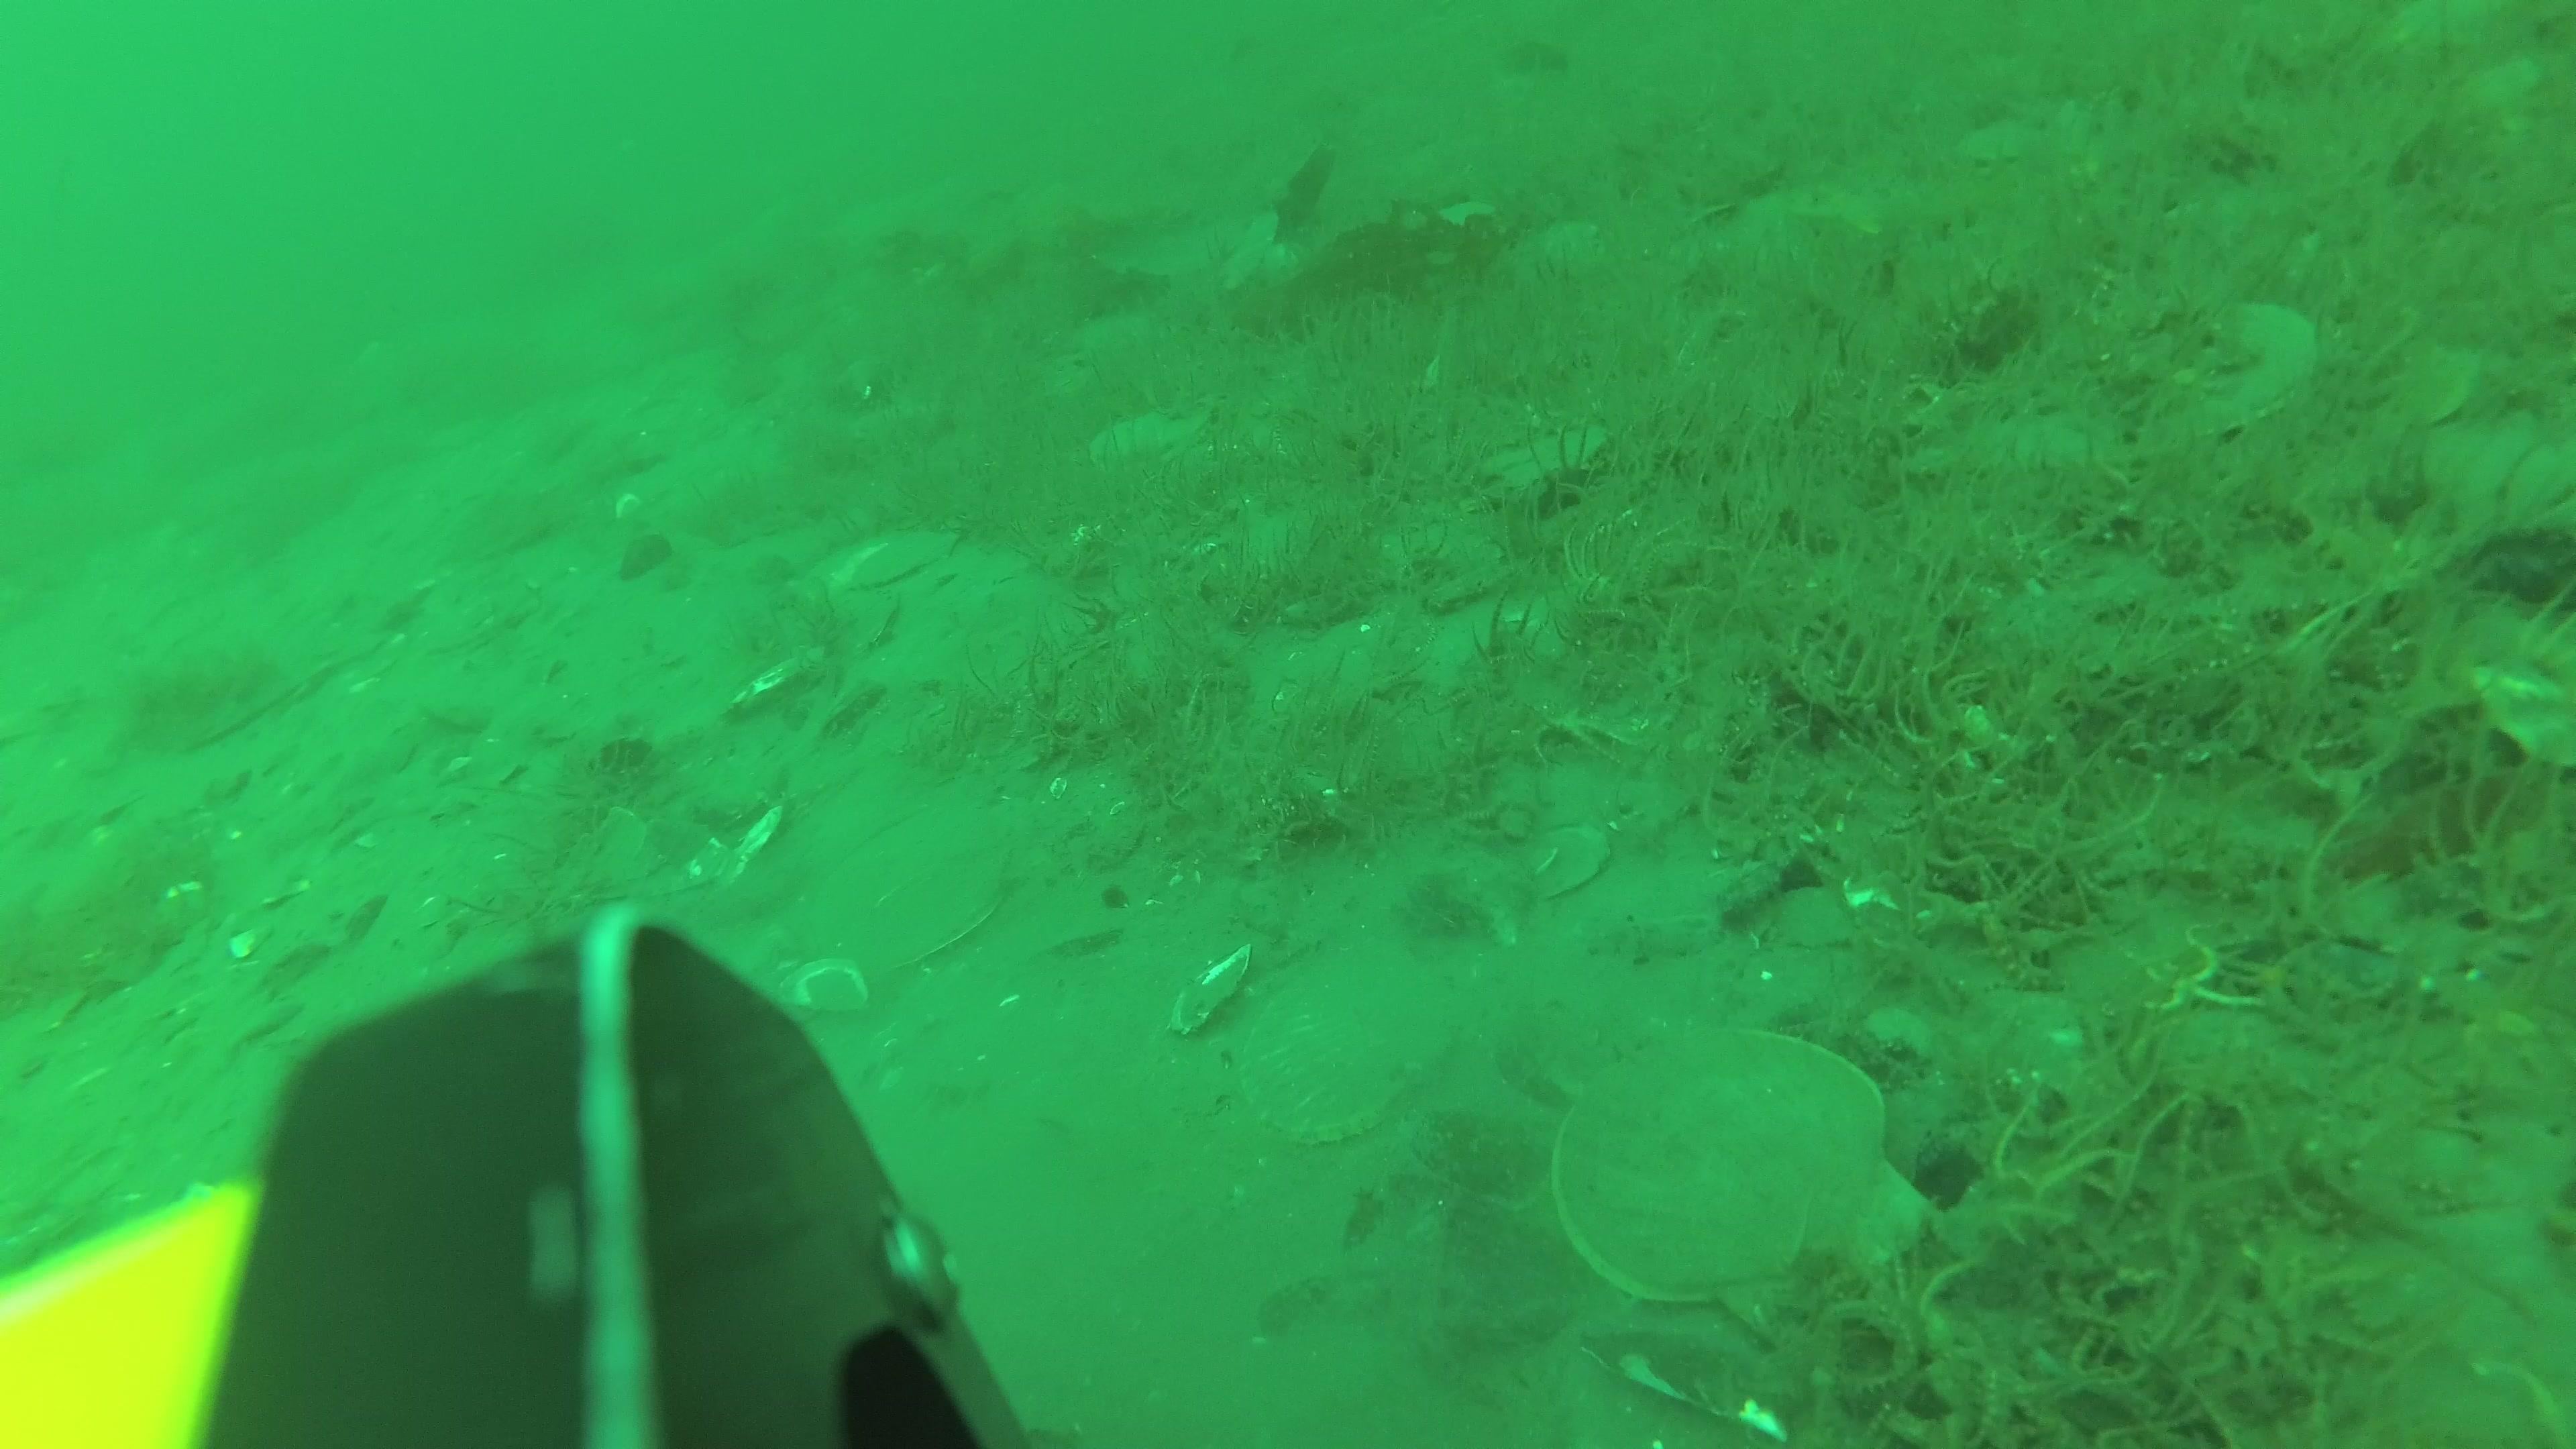scallop: (1550, 1040, 1946, 1348), (1246, 950, 1453, 1146), (789, 798, 1014, 973), (2164, 306, 2319, 444), (823, 527, 962, 589), (428, 591, 536, 662), (1092, 412, 1210, 467)
